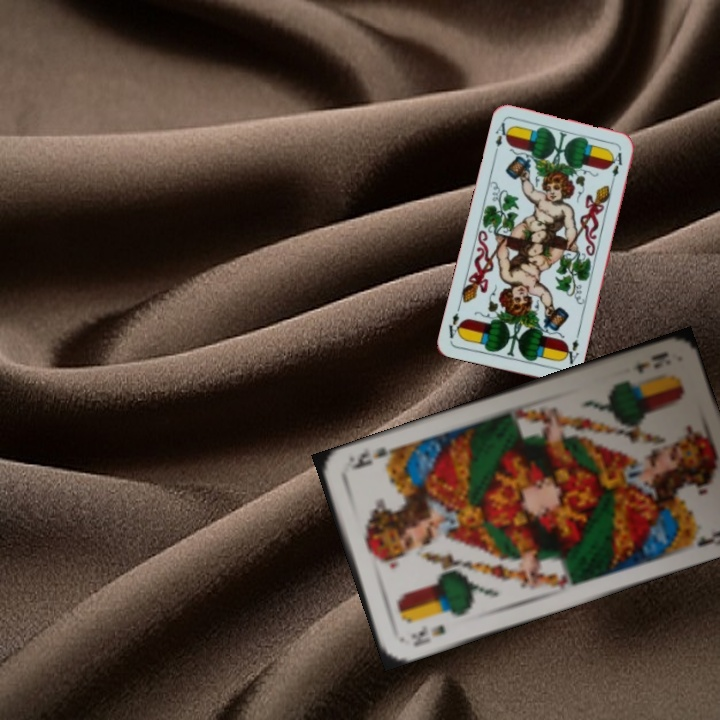EA: (490, 118, 513, 158), (560, 330, 582, 367)
EK: (632, 347, 671, 377), (407, 621, 448, 649)
